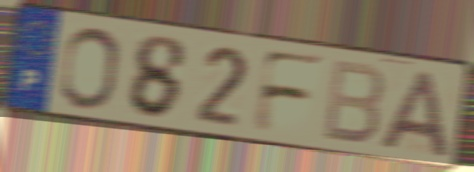2: (192, 45, 251, 130)
8: (128, 33, 189, 121)
A: (376, 67, 452, 160)
B: (319, 57, 387, 148)
F: (249, 47, 329, 136)
O: (56, 25, 121, 112)
